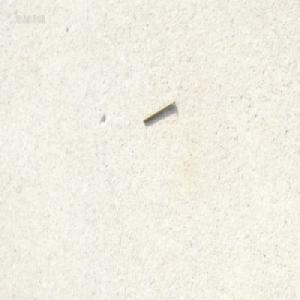Bolt: (142, 97, 175, 124)
